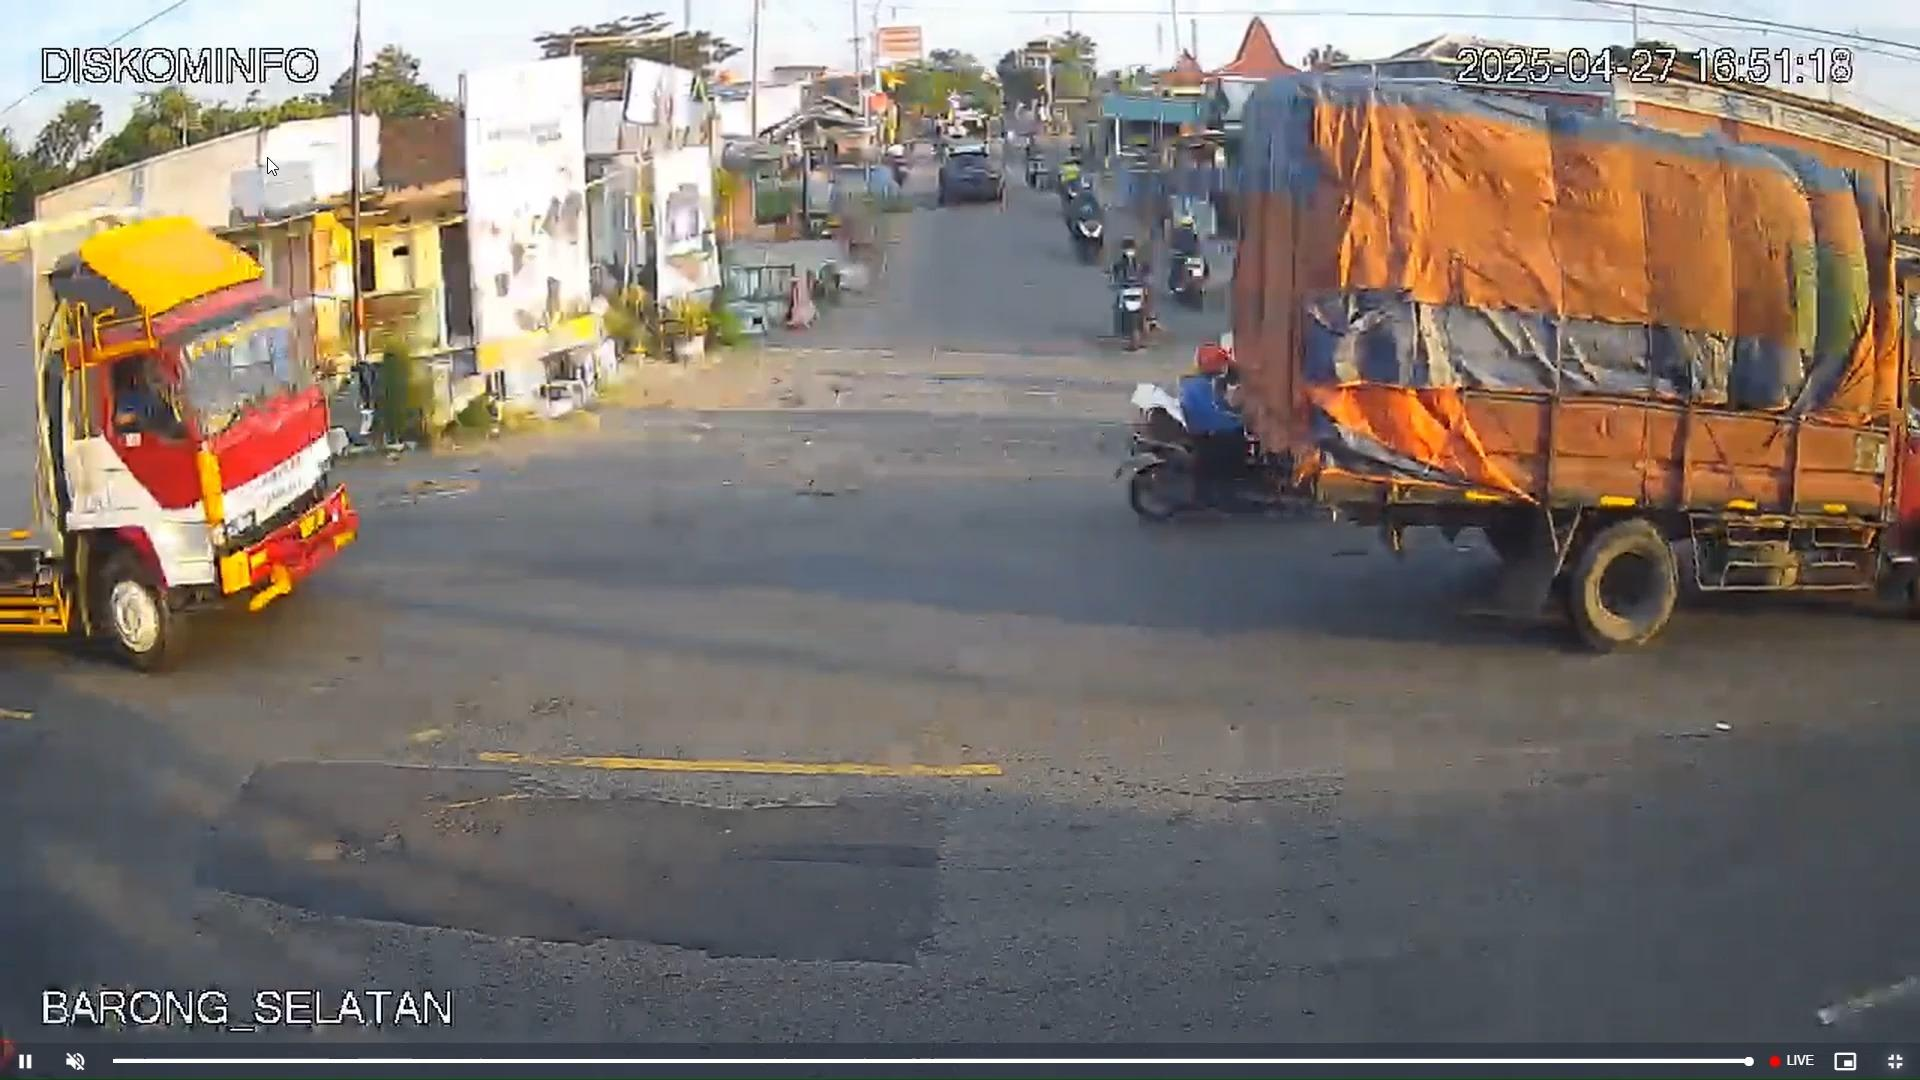Motor: (1109, 240, 1154, 349)
Truck: (1116, 41, 1915, 651), (3, 202, 363, 666)
